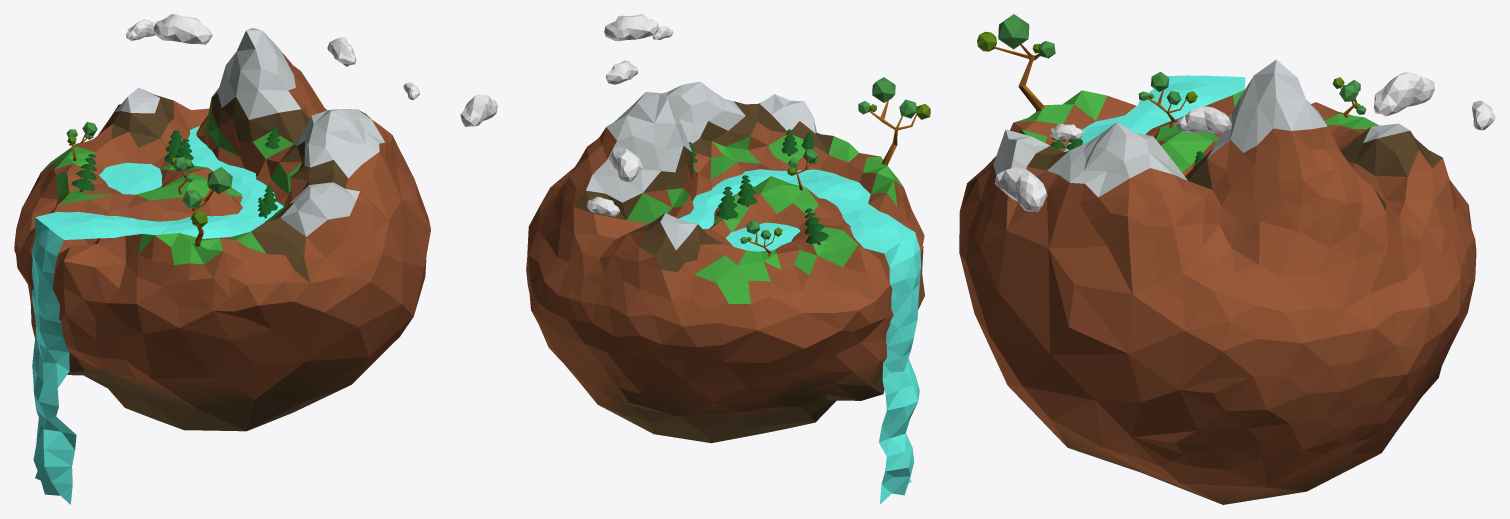
File: island_all.gltf
3 views of the same model, side by side, from view 1: azimuth 30°, elevation 25°; view 2: azimuth 150°, elevation 25°; view 3: azimuth 270°, elevation 25° (orthographic). The views are drawn at different scales.
Visible parts, largest first — view 1: Icosphere, Plane, Icosphere.001, Cube.002, Icosphere.004, Icosphere.005; view 2: Icosphere, Plane, Cube.002, Icosphere.004, Icosphere.001, Plane.005, Icosphere.005, Cube.001, Icosphere.002, Plane.003; view 3: Icosphere, Plane, Cube.002, Icosphere.001, Icosphere.004, Icosphere.005, Cube, Cube.001.
Boxes of the visible parts, x1,y1,x2,y2 form: Icosphere: (14, 28, 430, 431); Plane: (32, 126, 283, 504); Icosphere.001: (153, 14, 212, 44); Cube.002: (182, 167, 232, 246); Icosphere.004: (460, 94, 497, 126); Icosphere.005: (327, 37, 356, 66); Icosphere: (526, 81, 924, 443); Plane: (678, 169, 921, 504); Cube.002: (858, 77, 930, 165); Icosphere.004: (604, 14, 658, 41); Icosphere.001: (609, 147, 642, 181); Plane.005: (804, 208, 828, 245); Icosphere.005: (606, 60, 637, 84); Cube.001: (740, 220, 782, 256); Icosphere.002: (586, 196, 620, 216); Plane.003: (716, 186, 737, 219); Icosphere: (959, 59, 1476, 504); Plane: (1064, 75, 1245, 151); Cube.002: (977, 14, 1055, 111); Icosphere.001: (1373, 72, 1434, 116); Icosphere.004: (995, 167, 1047, 212); Icosphere.005: (1175, 106, 1231, 133); Cube: (1138, 71, 1197, 127); Cube.001: (1332, 77, 1366, 117).
Bounding box in the file's own units: 21.01 × 19.8 × 19.8.
